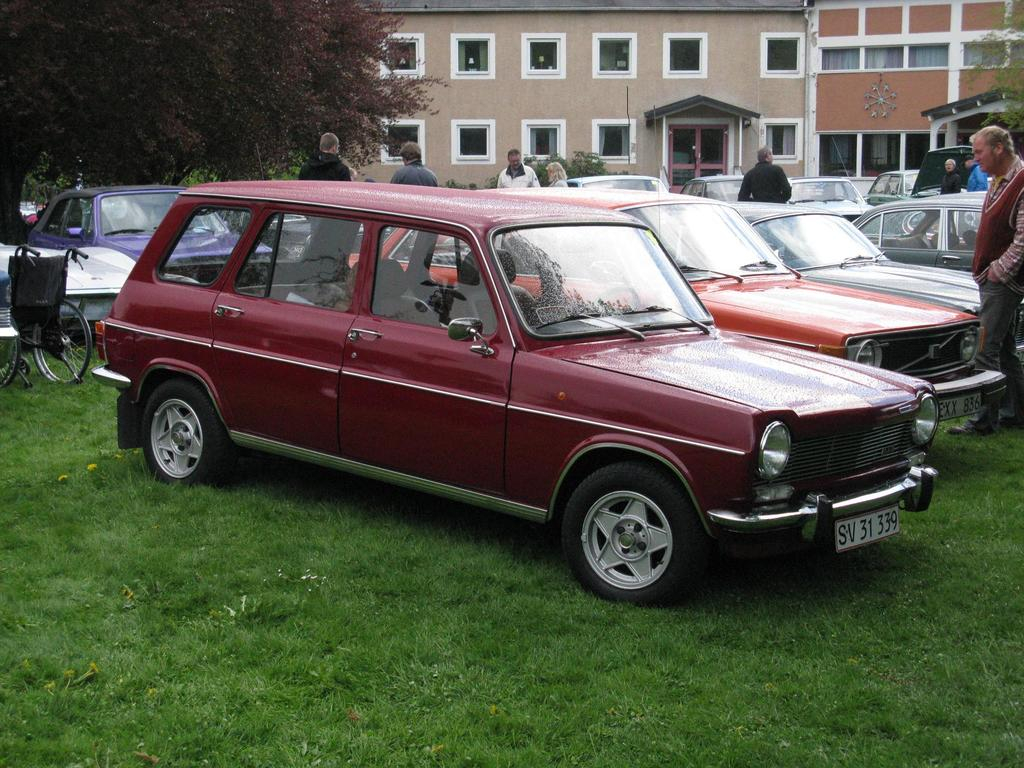Car: (82, 169, 948, 610), (346, 185, 1002, 430), (739, 200, 1023, 384), (0, 171, 275, 338), (860, 189, 982, 272), (680, 171, 742, 200), (566, 178, 666, 189)
